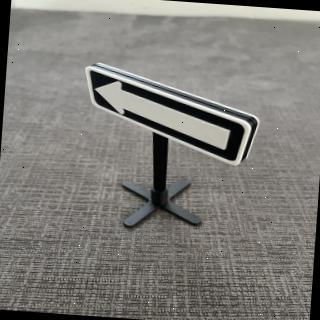sign_oneway_left: (81, 63, 260, 168)
